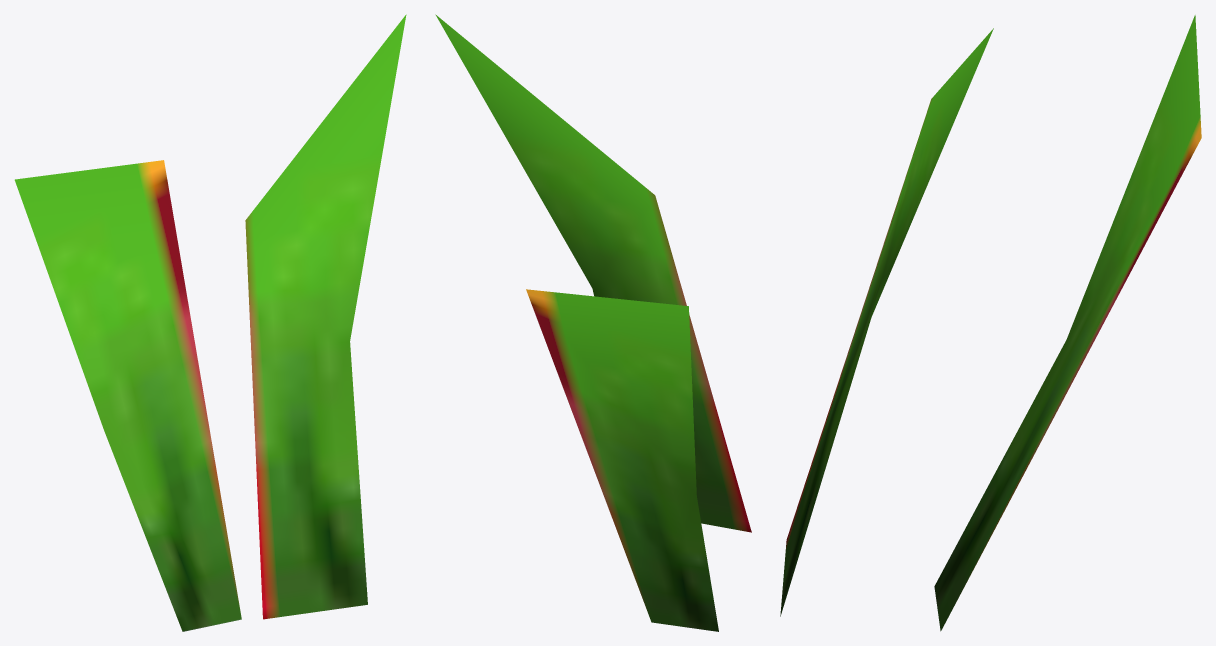
Rendered from fg_grassC.dae.
3 renders of one model, left to right at view 1: azimuth 30°, elevation 25°; view 2: azimuth 150°, elevation 25°; view 3: azimuth 270°, elevation 25°, orthographic. The views are drawn at different scales.
Visible parts, largest first — view 1: fg_grassC; view 2: fg_grassC; view 3: fg_grassC.
Boxes of the visible parts, x1,y1,x2,y2 form: fg_grassC: (14,14,406,631); fg_grassC: (435,14,751,631); fg_grassC: (780,15,1201,631).
Bounding box in the file's own units: 14.53 × 23.97 × 12.64.
Materials: 1 (1 with a texture image).
